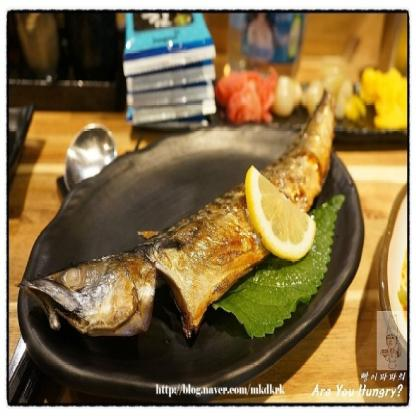Peixe: (28, 85, 349, 358)
